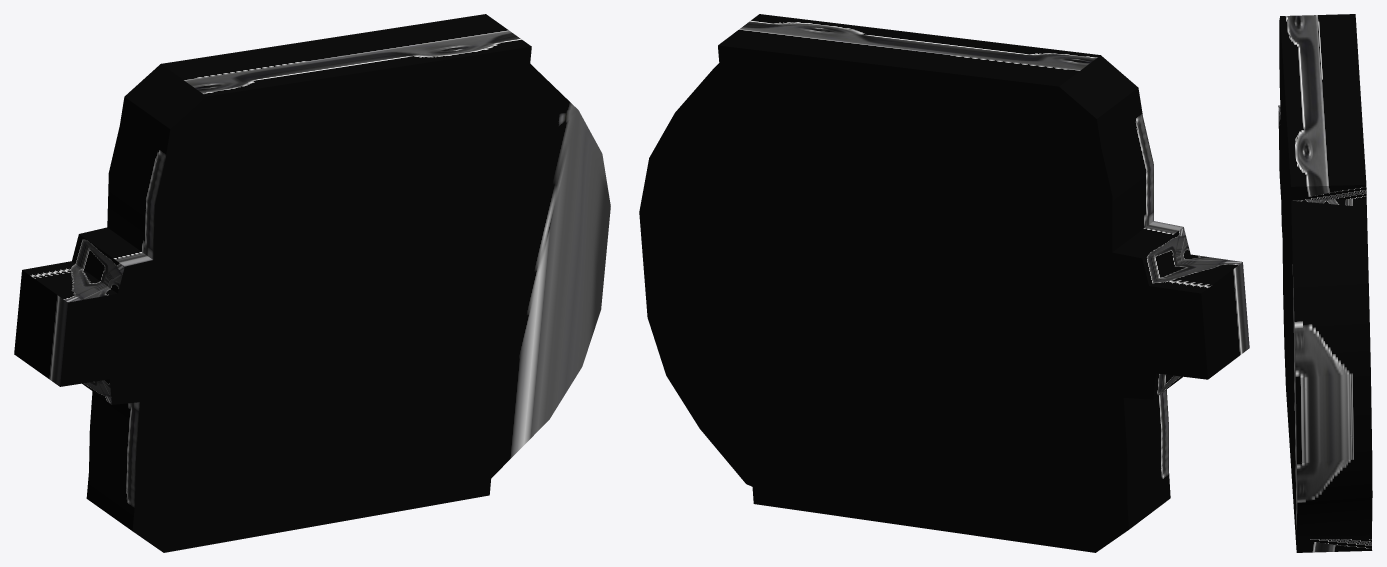
The model's file is pedal.fbx.
3 renders of one model, left to right at view 1: azimuth 30°, elevation 25°; view 2: azimuth 150°, elevation 25°; view 3: azimuth 270°, elevation 25°, orthographic. The views are drawn at different scales.
Parts seen in each view (by area): view 1: Pedal derecho.001; view 2: Pedal derecho.001; view 3: Pedal derecho.001.
Boxes of the visible parts, bbox=[...] form: Pedal derecho.001: bbox=[14, 14, 610, 552]; Pedal derecho.001: bbox=[639, 14, 1249, 552]; Pedal derecho.001: bbox=[1278, 14, 1372, 552].
Bounding box in the file's own units: 31.46 × 25.58 × 5.26.
Materials: 1 (1 with a texture image).
